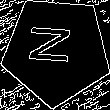N_E: (30, 28, 82, 73)
